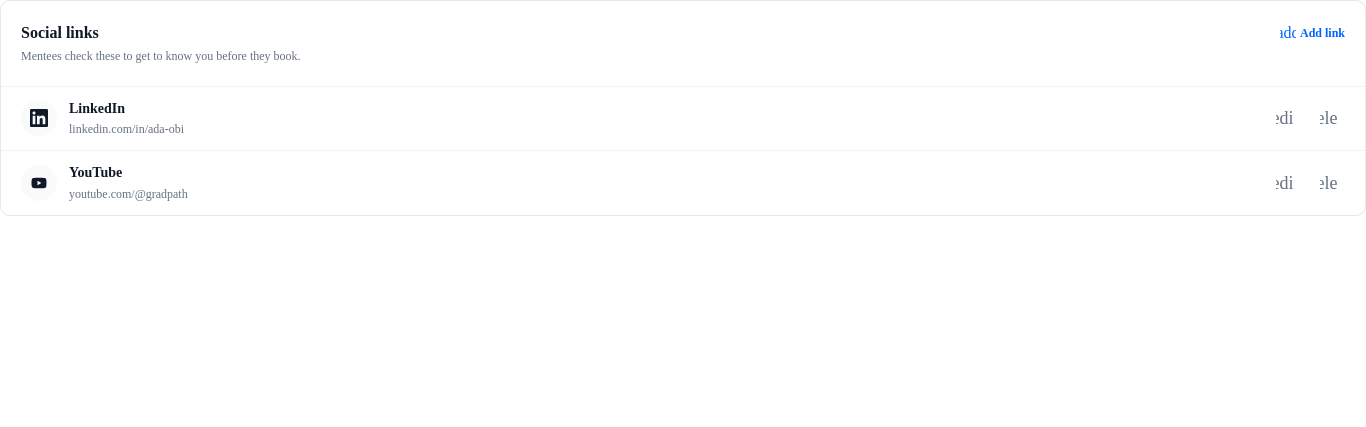
Scenario: SocialLinksCard › a refused save says why; Cancel and Escape close the form
The image size is (1366, 427).
Click the button "add Add link" at (1312, 33), box [1280,25,1345,41]
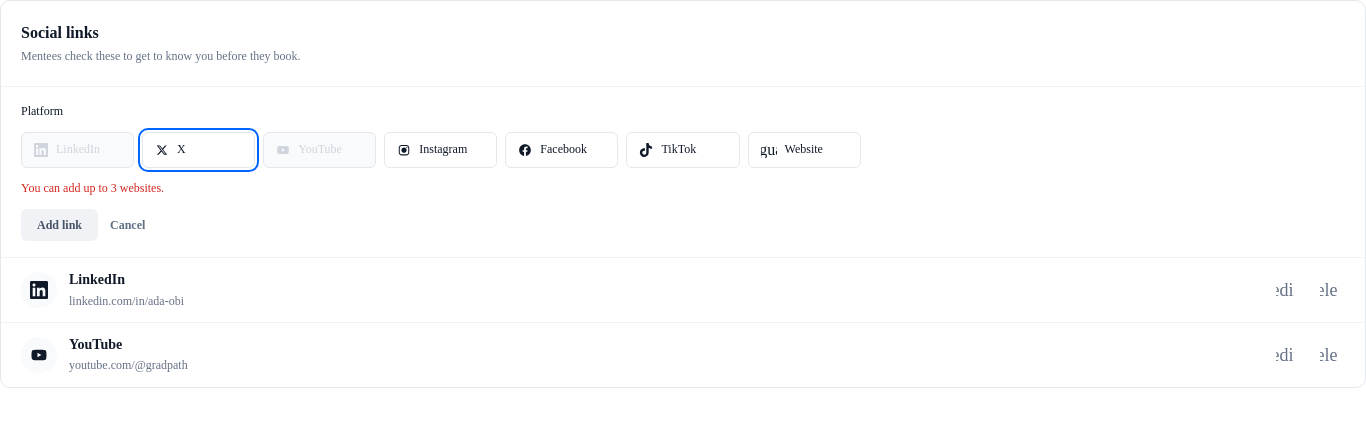
Expected: the message reads "You can add up to 3 websites.", [21,181,164,195]
Click the button "Cancel" at (128, 225), box [110,217,145,233]
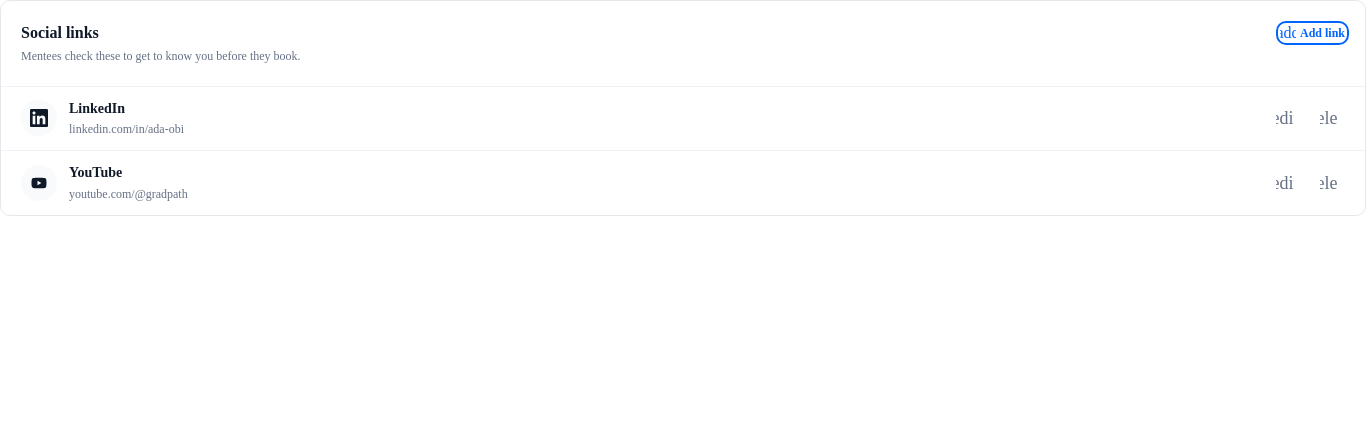
Click the button with aria-label "Edit LinkedIn" at (1285, 118), box [1269,102,1301,134]
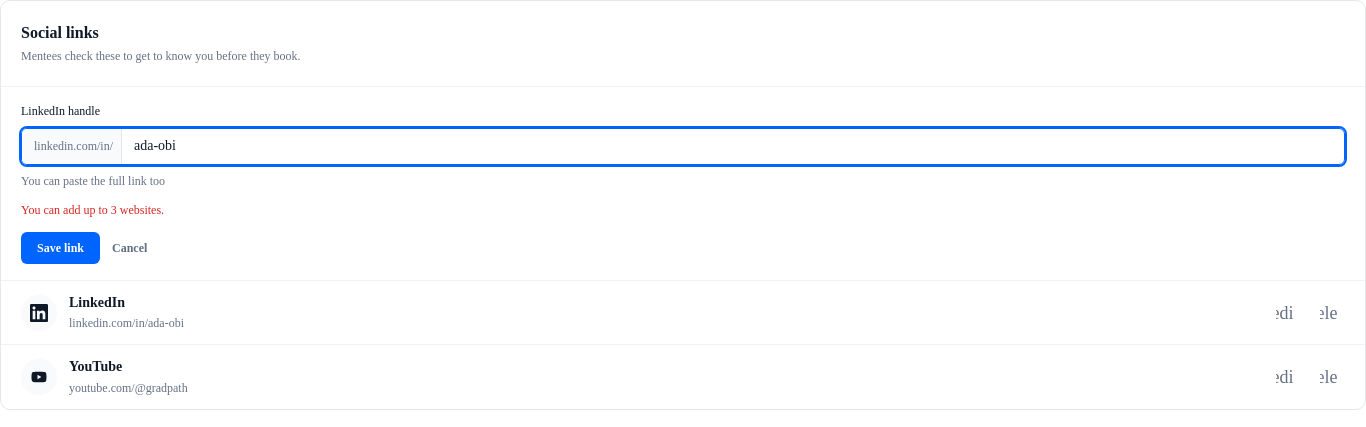
Press Escape
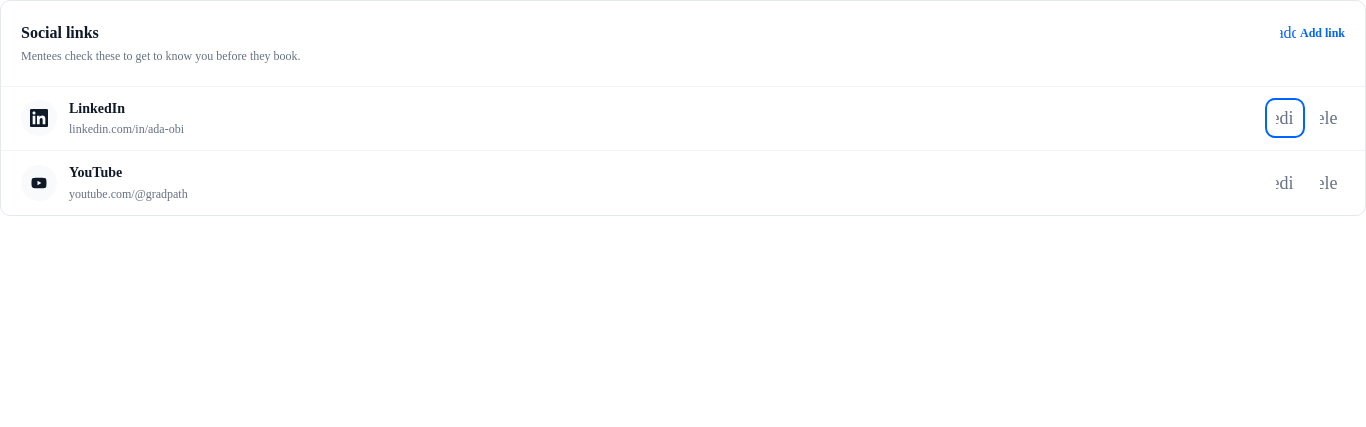
Expected: the label labelled "LinkedIn handle" is gone
